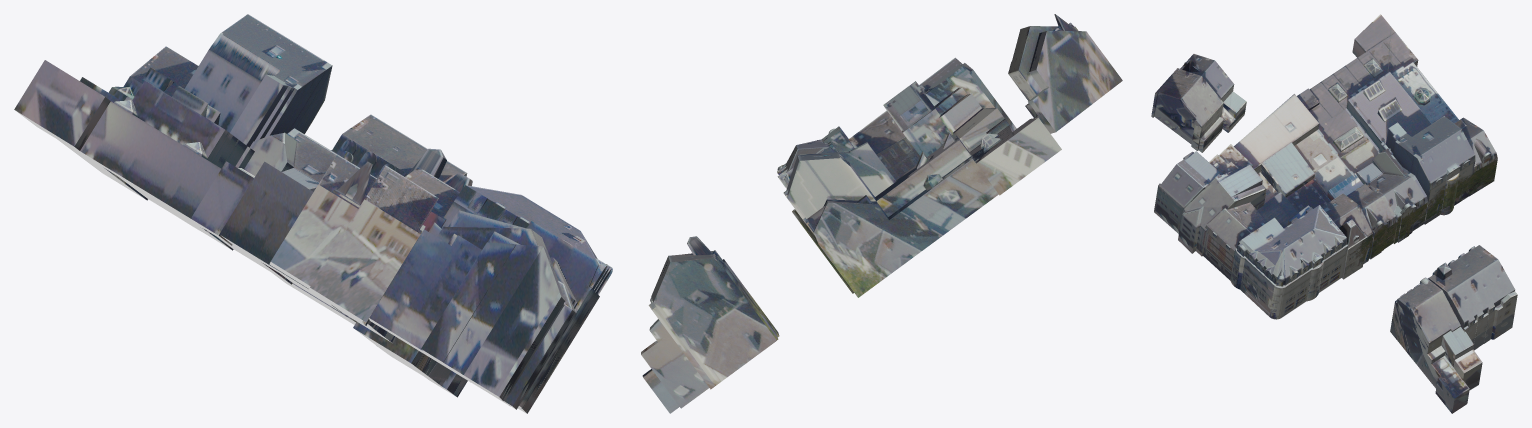
3 views of the same model, side by side, from view 1: azimuth 30°, elevation 25°; view 2: azimuth 150°, elevation 25°; view 3: azimuth 270°, elevation 25° (orthographic). The views are drawn at different scales.
Visible parts, largest first — view 1: mesh (×2); view 2: mesh; view 3: mesh.
Boxes of the visible parts, x1,y1,x2,y2 form: mesh (×2): (14,14,612,413); mesh: (641,14,1122,413); mesh: (1151,14,1517,413).
Size of the model in its own units: 71.44 by 62.53 by 76.03.
25 materials, 24 textured.
